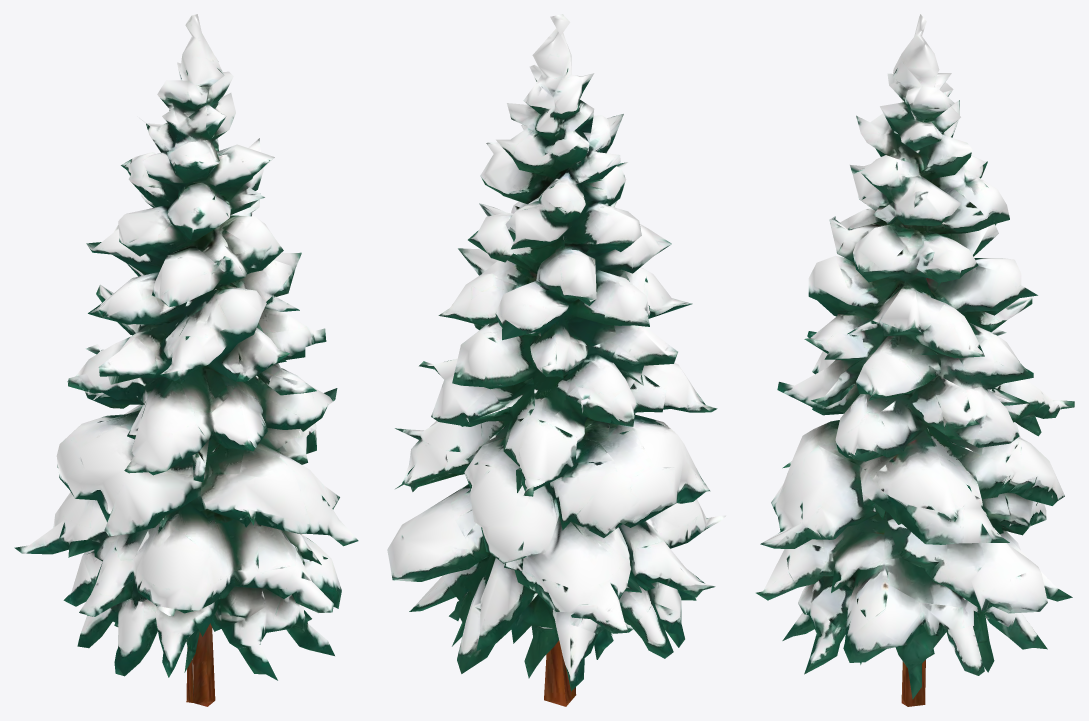
File: pine_snow.glb
The picture shows the model from 3 angles, left to right: view 1: azimuth 30°, elevation 25°; view 2: azimuth 150°, elevation 25°; view 3: azimuth 270°, elevation 25°; orthographic projection.
Size of the model in its own units: 0.8101 by 1.88 by 0.7945.
Materials: 1 (1 with a texture image).
